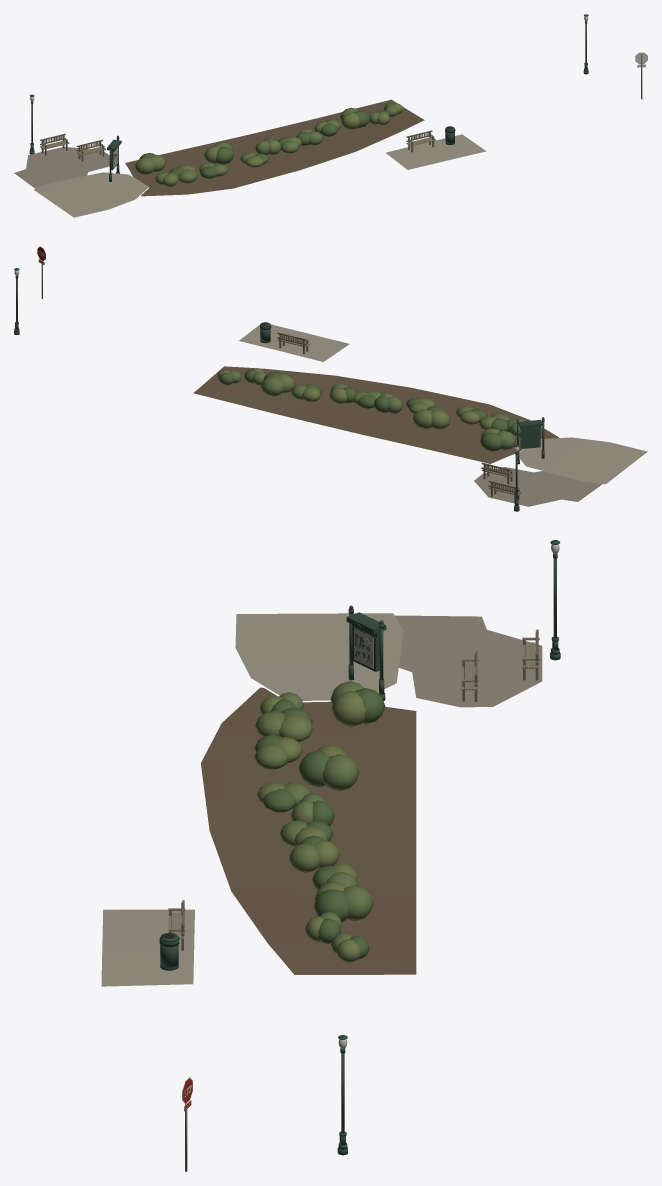
The model's file is site.glb.
The picture shows the model from 3 angles, top to bottom: view 1: azimuth 30°, elevation 25°; view 2: azimuth 150°, elevation 25°; view 3: azimuth 270°, elevation 25°; orthographic projection. The views are drawn at different scales.
Parts seen in each view (by area): view 1: oregon-southeast-grounds, oregon-map-apron, oregon-southeast-shrub-clusters, oregon-hall-seating-fixtures, oregon-hall-campus-map-station; view 2: oregon-southeast-grounds, oregon-map-apron, oregon-southeast-shrub-clusters, oregon-hall-seating-fixtures, oregon-hall-campus-map-station; view 3: oregon-southeast-grounds, oregon-map-apron, oregon-southeast-shrub-clusters, oregon-hall-seating-fixtures, oregon-hall-campus-map-station.
Boxes of the visible parts, x1=… form: oregon-southeast-grounds: x1=125, y1=99, x2=424, y2=196; oregon-map-apron: x1=14, y1=134, x2=485, y2=217; oregon-southeast-shrub-clusters: x1=135, y1=102, x2=403, y2=186; oregon-hall-seating-fixtures: x1=29, y1=94, x2=455, y2=161; oregon-hall-campus-map-station: x1=107, y1=135, x2=121, y2=181; oregon-southeast-grounds: x1=193, y1=366, x2=558, y2=463; oregon-map-apron: x1=239, y1=324, x2=647, y2=506; oregon-southeast-shrub-clusters: x1=217, y1=368, x2=524, y2=451; oregon-hall-seating-fixtures: x1=260, y1=322, x2=521, y2=511; oregon-hall-campus-map-station: x1=516, y1=417, x2=544, y2=464; oregon-southeast-grounds: x1=201, y1=687, x2=416, y2=974; oregon-map-apron: x1=101, y1=613, x2=542, y2=986; oregon-southeast-shrub-clusters: x1=254, y1=681, x2=385, y2=962; oregon-hall-seating-fixtures: x1=159, y1=540, x2=560, y2=970; oregon-hall-campus-map-station: x1=346, y1=605, x2=386, y2=700.
Size of the model in its own units: 38.55 by 4.11 by 13.64.
